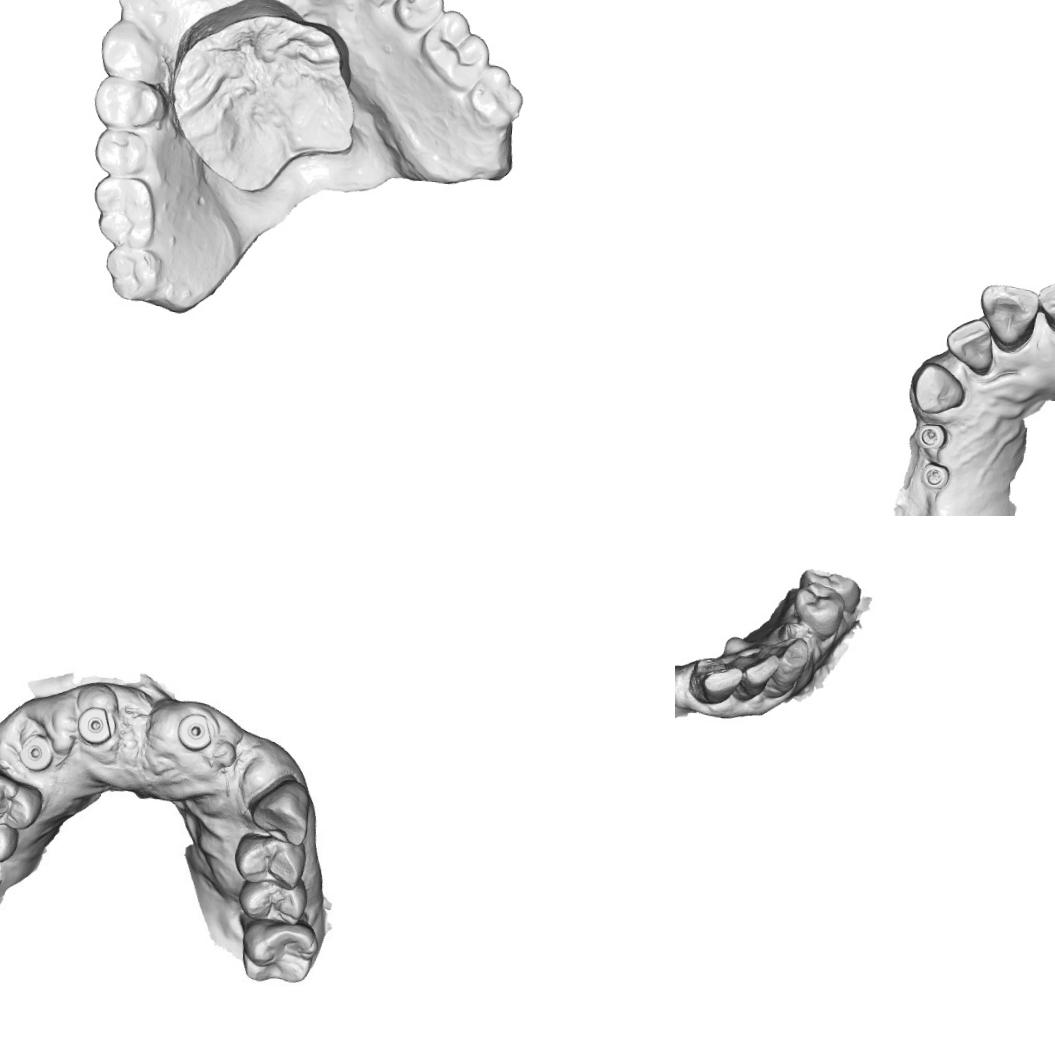canine: (97, 17, 164, 82), (252, 776, 312, 841), (757, 635, 811, 701), (908, 359, 968, 417)
implant: (70, 701, 115, 747), (172, 707, 215, 752), (17, 728, 57, 772), (913, 420, 951, 452), (917, 460, 951, 490)
incisor: (976, 282, 1040, 353), (943, 315, 995, 376), (725, 648, 780, 705), (686, 656, 742, 706), (1035, 268, 1055, 342), (112, 0, 174, 19)
molar: (416, 5, 494, 94), (87, 172, 168, 253), (462, 61, 531, 132), (243, 917, 318, 982), (100, 239, 171, 304)
premolar: (89, 72, 170, 132), (231, 829, 307, 888), (88, 122, 158, 182), (232, 877, 312, 929), (790, 580, 848, 640), (796, 566, 863, 614), (0, 771, 39, 830), (386, 0, 448, 37), (0, 809, 22, 864)
